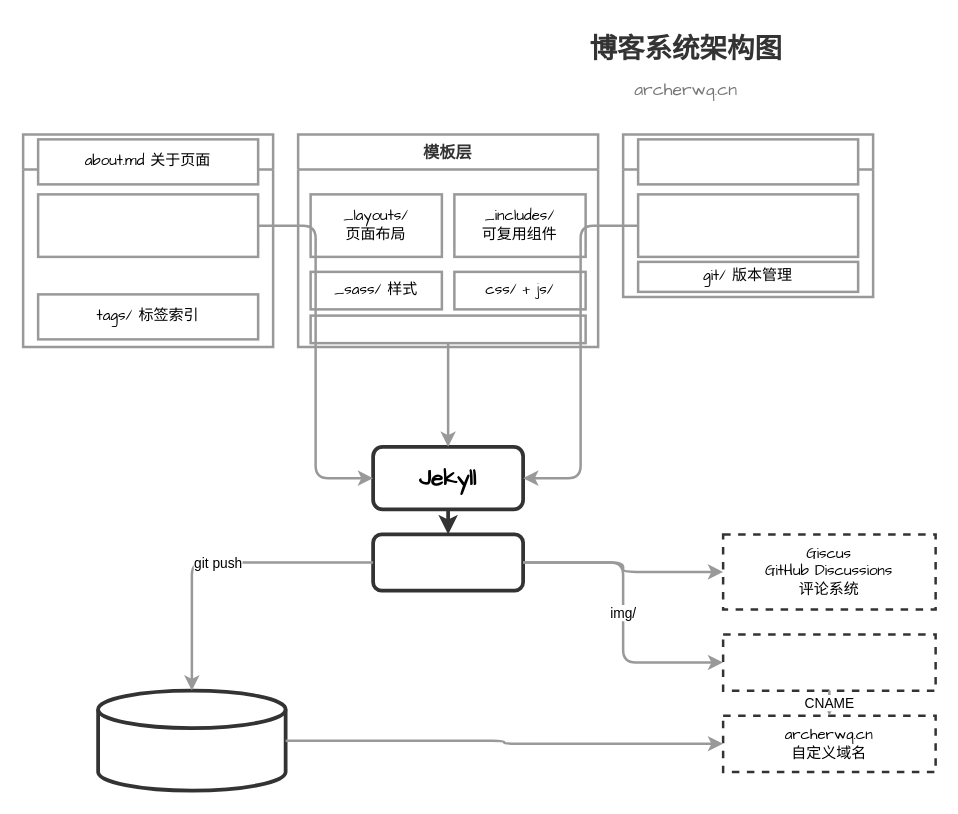
Image size: 958x814. Some labels were removed from this diagram. The shapes that lost their labels are listed below. From the top down, each one's centre as x and y in pixels, then its label:
the point at 747,161: CNAME 自定义域名
the point at 147,225: _posts/ Markdown 博客文章
the point at 747,225: _config.yml 主题 / 插件 / 分页 / Giscus
the point at 447,329: fonts/ images/
the point at 447,562: 静态 HTML / CSS / JS
the point at 828,661: pic.imgdb.cn 图片 CDN
the point at 191,740: GitHub Pages 托管 + 部署
